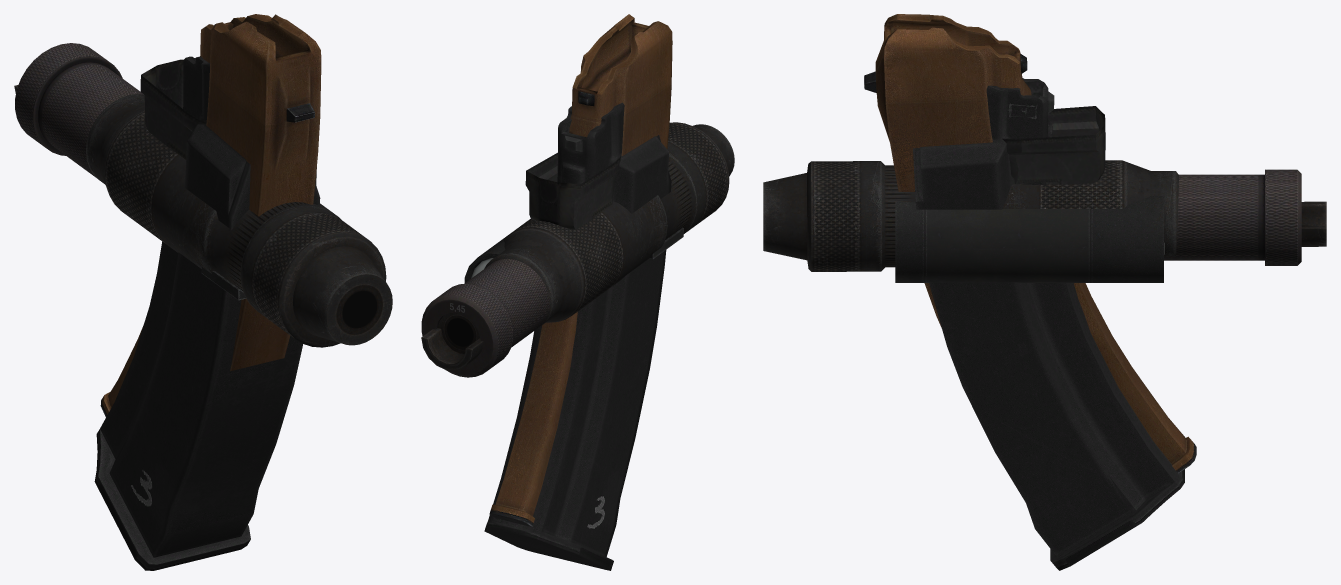
File: ak_74_modules_pack.fbx
3 renders of one model, left to right at view 1: azimuth 30°, elevation 25°; view 2: azimuth 150°, elevation 25°; view 3: azimuth 270°, elevation 25°, orthographic. The views are drawn at different scales.
Parts seen in each view (by area): view 1: mag_60, silencer_pbs4, mag_45_backelite, silencer_tgpa, pistol_grip_polymer_ak74, flashlight; view 2: mag_60, silencer_pbs4, mag_45_backelite, silencer_tgpa, pistol_grip_polymer_ak74, flashlight; view 3: mag_60, mag_45_backelite, silencer_pbs4, flashlight, silencer_tgpa, pistol_grip_polymer_ak74.
Boxes of the visible parts, x1,y1,x2,y2 form: mag_60: (94,56,320,570); silencer_pbs4: (14,85,392,347); mag_45_backelite: (100,14,321,416); silencer_tgpa: (15,43,143,177); pistol_grip_polymer_ak74: (140,59,205,159); flashlight: (201,203,341,300); mag_60: (484,102,671,570); silencer_pbs4: (421,122,734,370); mag_45_backelite: (489,14,672,526); silencer_tgpa: (421,258,549,377); pistol_grip_polymer_ak74: (525,152,620,229); flashlight: (464,218,683,282); mag_60: (913,78,1184,570); mag_45_backelite: (864,14,1196,473); silencer_pbs4: (763,160,1326,271); flashlight: (895,196,1164,282); silencer_tgpa: (1164,169,1301,265); pistol_grip_polymer_ak74: (1002,106,1105,184).
Size of the model in its own units: 8.02 by 36.9 by 35.65.
